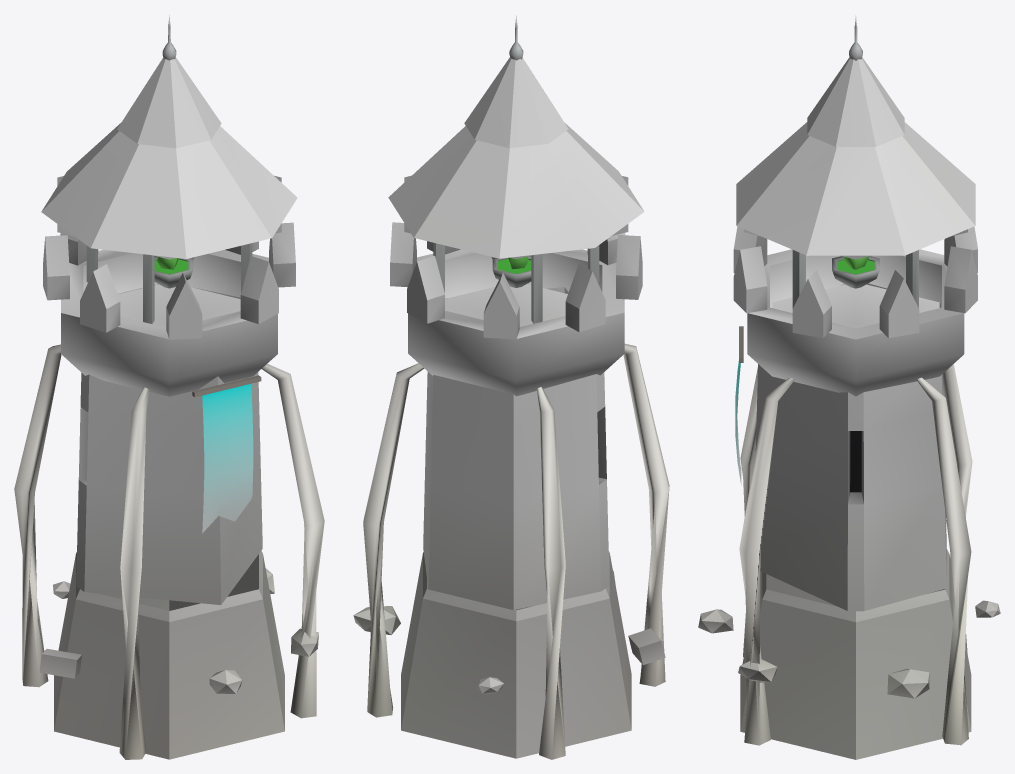
File: arrow_tower_ashen_lod1.glb
3 views of the same model, side by side, from view 1: azimuth 30°, elevation 25°; view 2: azimuth 150°, elevation 25°; view 3: azimuth 270°, elevation 25° (orthographic).
Parts seen in each view (by area): view 1: arrow_tower_ashen_lod1; view 2: arrow_tower_ashen_lod1; view 3: arrow_tower_ashen_lod1.
Part boxes in pixels (box(x1,y1,x2,y2)): arrow_tower_ashen_lod1: box(14, 14, 324, 759); arrow_tower_ashen_lod1: box(353, 15, 669, 759); arrow_tower_ashen_lod1: box(698, 15, 1000, 759).
Bounding box in the file's own units: 4.7 × 11.41 × 4.54.
